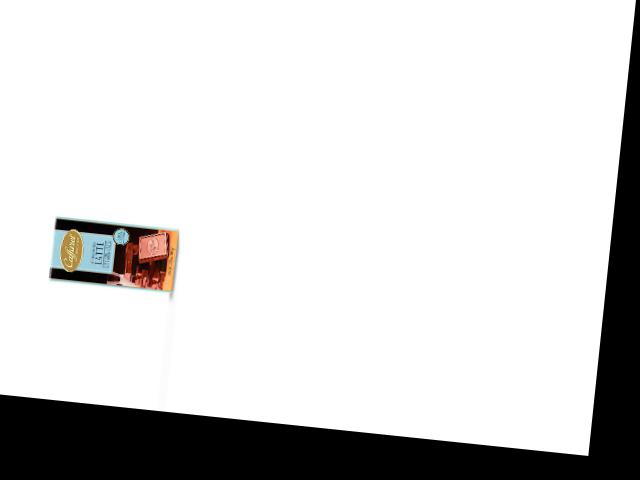chocolate: (47, 215, 180, 296)
